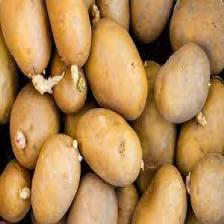Bud: (29, 68, 65, 96), (14, 128, 29, 156), (184, 172, 194, 196), (197, 110, 210, 128), (19, 184, 32, 202), (92, 7, 102, 27), (70, 62, 78, 85), (78, 78, 85, 94), (139, 159, 146, 174), (72, 138, 79, 152), (206, 79, 212, 91), (77, 154, 83, 166), (145, 60, 149, 71)
Sprouted potato: (88, 6, 148, 119), (0, 3, 61, 99), (155, 41, 215, 128), (78, 109, 147, 182), (31, 134, 84, 224), (11, 84, 60, 170), (46, 0, 91, 82), (184, 150, 223, 224), (0, 158, 32, 224), (52, 54, 88, 111)
